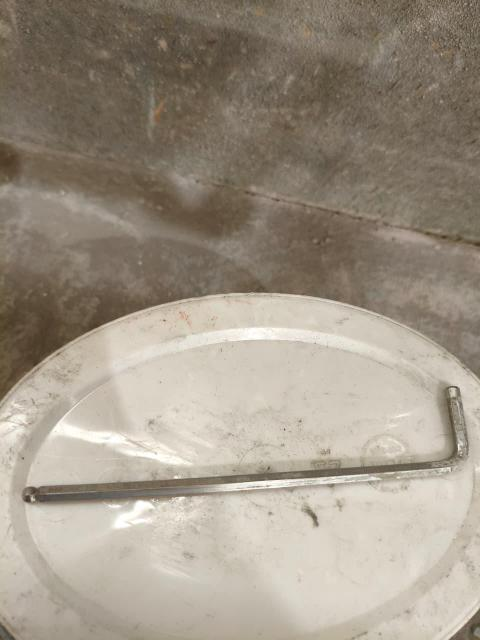Metal: (18, 392, 480, 508)
